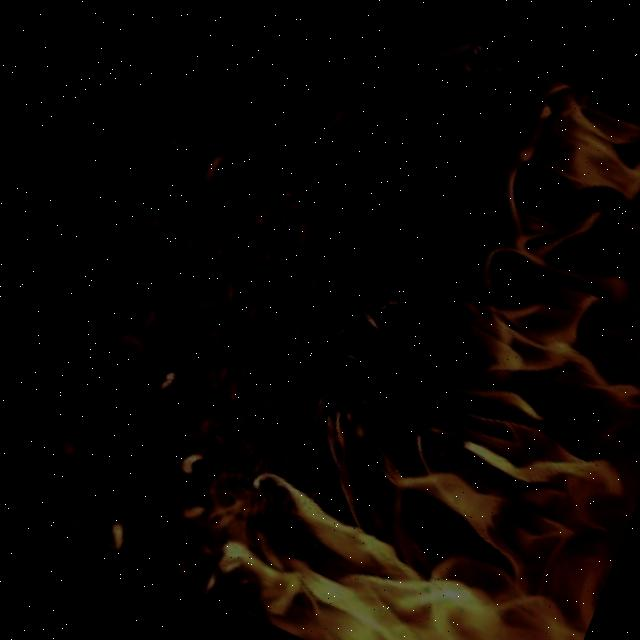Fire: (137, 12, 640, 640)
